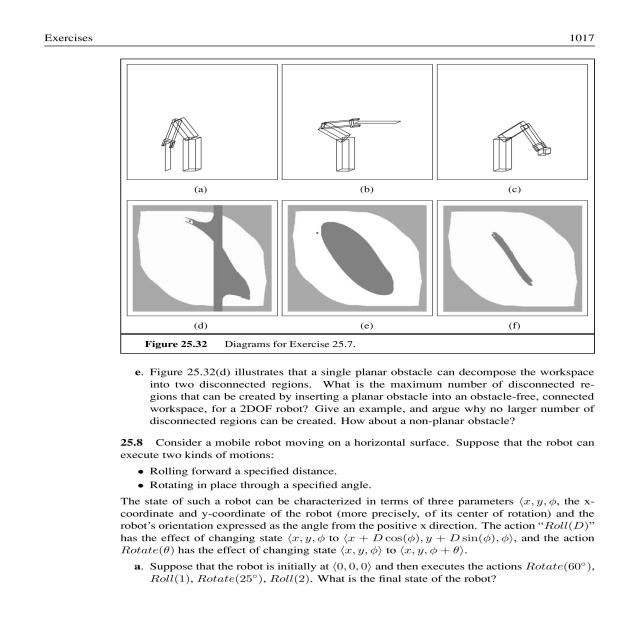diagram: (116, 60, 596, 352)
